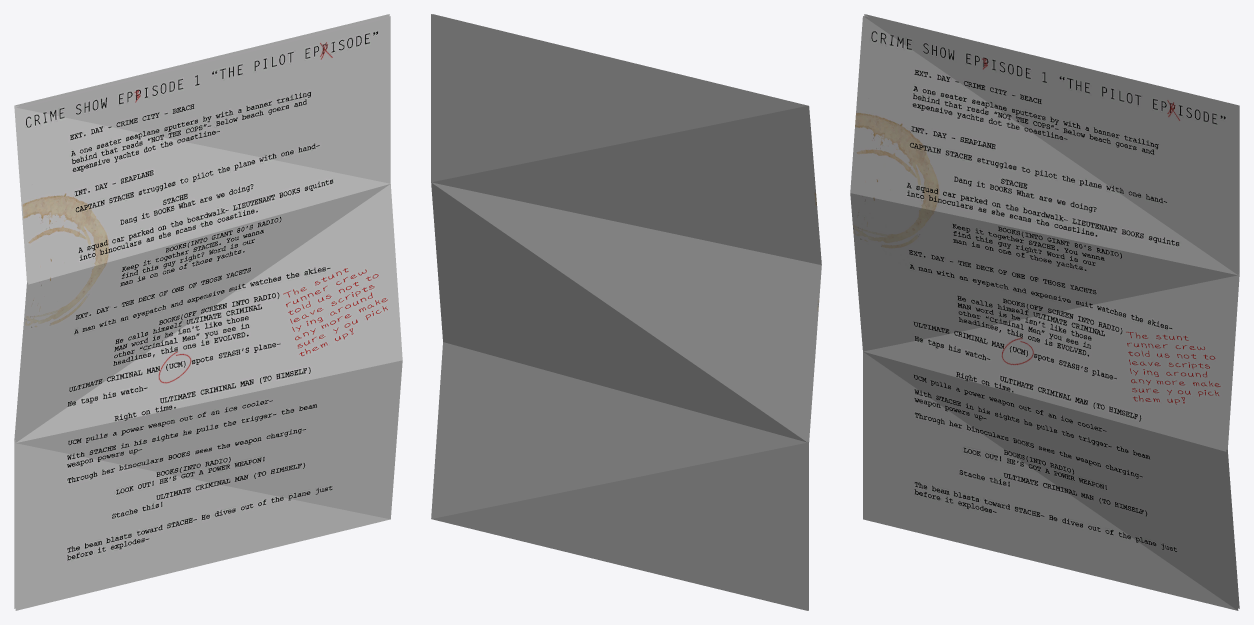
File: stunt runner crime show 1.glb
3 renders of one model, left to right at view 1: azimuth 30°, elevation 25°; view 2: azimuth 150°, elevation 25°; view 3: azimuth 330°, elevation 25°, orthographic.
Visible parts, largest first — view 1: Hunter Note; view 2: Hunter Note; view 3: Hunter Note.
Part boxes in pixels (<box>): Hunter Note: <box>14,14,402,610</box>; Hunter Note: <box>431,14,821,610</box>; Hunter Note: <box>850,14,1239,610</box>.
Bounding box in the file's own units: 0.2631 × 0.3378 × 0.0171.
Materials: 1 (1 with a texture image).
